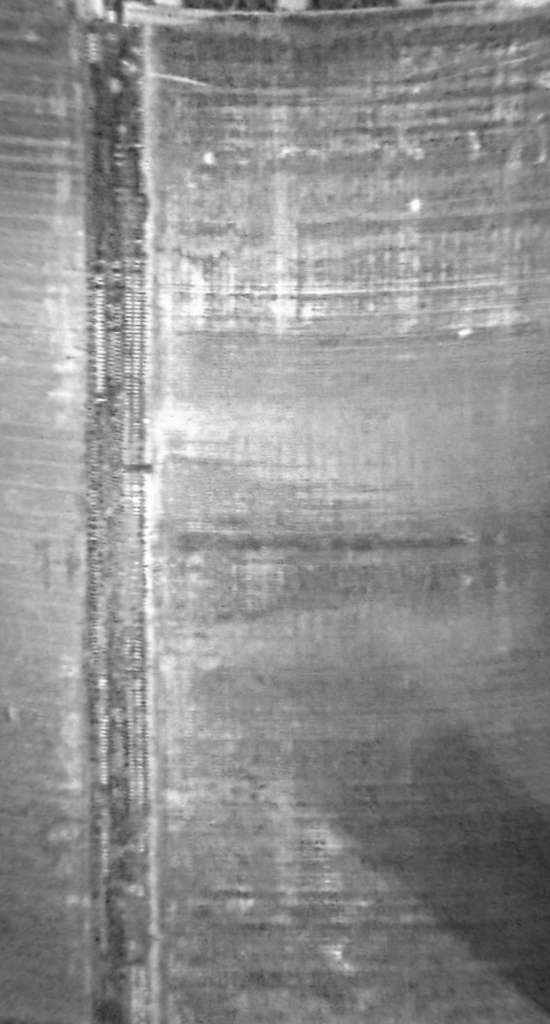splice: (74, 4, 179, 1024)
